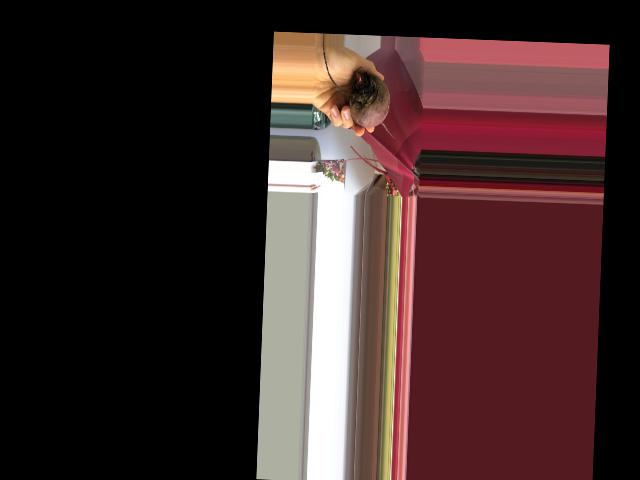beet: (318, 46, 399, 139)
